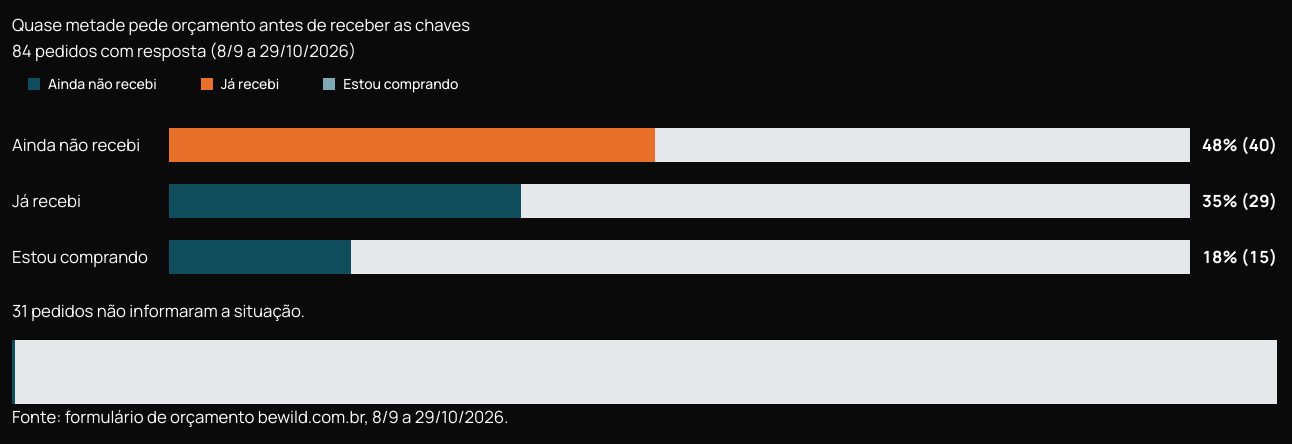
Test: interações dos gráficos › mostra detalhes com foco e toque nos dados
Focus the element named "Ainda não recebi: 40 pedidos". click: (644, 145)
box: [12,128,1277,162]
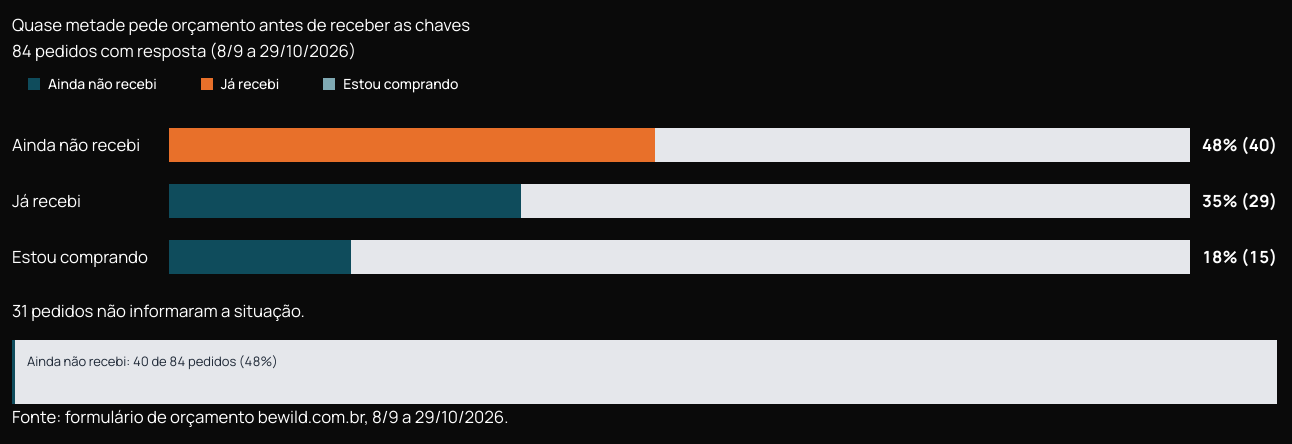
Expected: the message shows "40 de 84 pedidos (48%)", [27,352,278,370]
Click the element named "Já recebi: 29 pedidos". click: click(644, 201)
box: [12,184,1277,218]
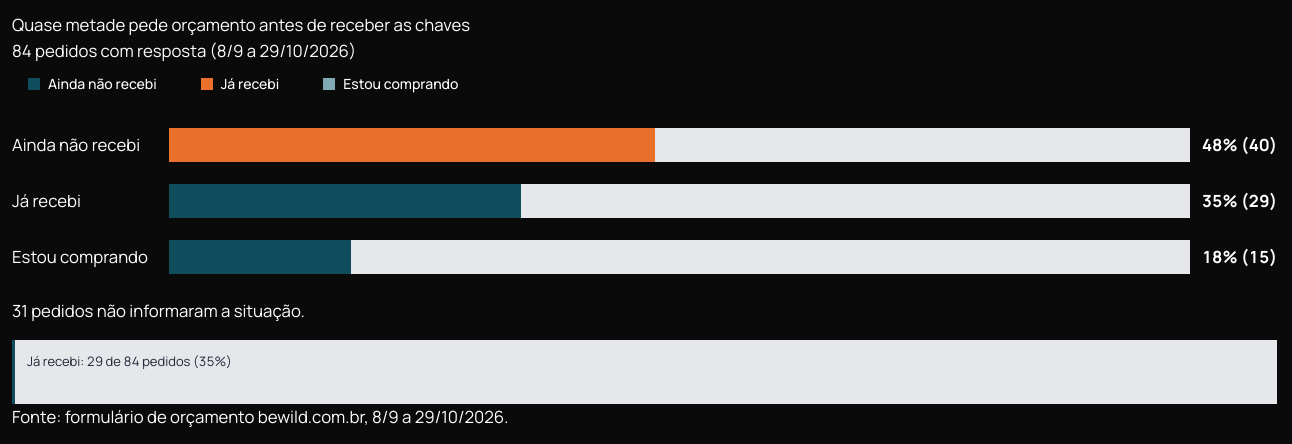
Expected: the message shows "29 de 84 pedidos (35%)", [27,352,232,370]
